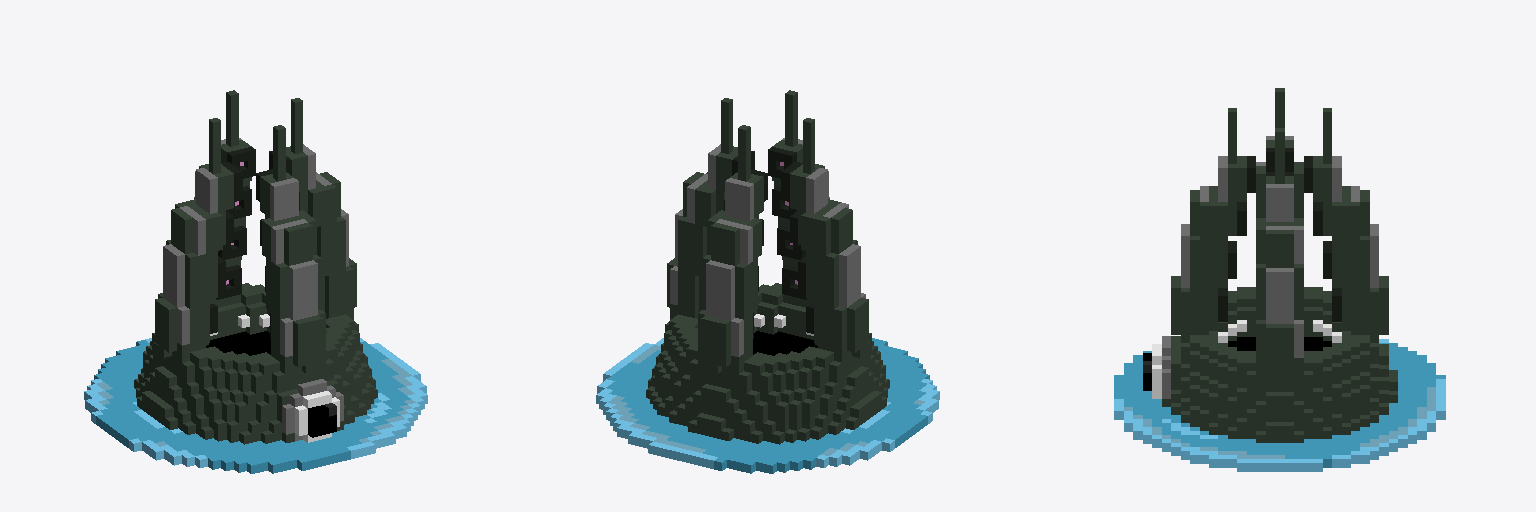
The picture shows the model from 3 angles: view 1: azimuth 30°, elevation 25°; view 2: azimuth 150°, elevation 25°; view 3: azimuth 270°, elevation 25°; orthographic projection.
Parts seen in each view (by area): view 1: monster2_die2; view 2: monster2_die2; view 3: monster2_die2.
Boxes of the visible parts, box(x1,y1,x2,y2) form: monster2_die2: box(84, 90, 427, 473); monster2_die2: box(596, 90, 939, 473); monster2_die2: box(1114, 88, 1445, 471).
Size of the model in its own units: 35 by 34 by 35.
1 materials, 1 textured.